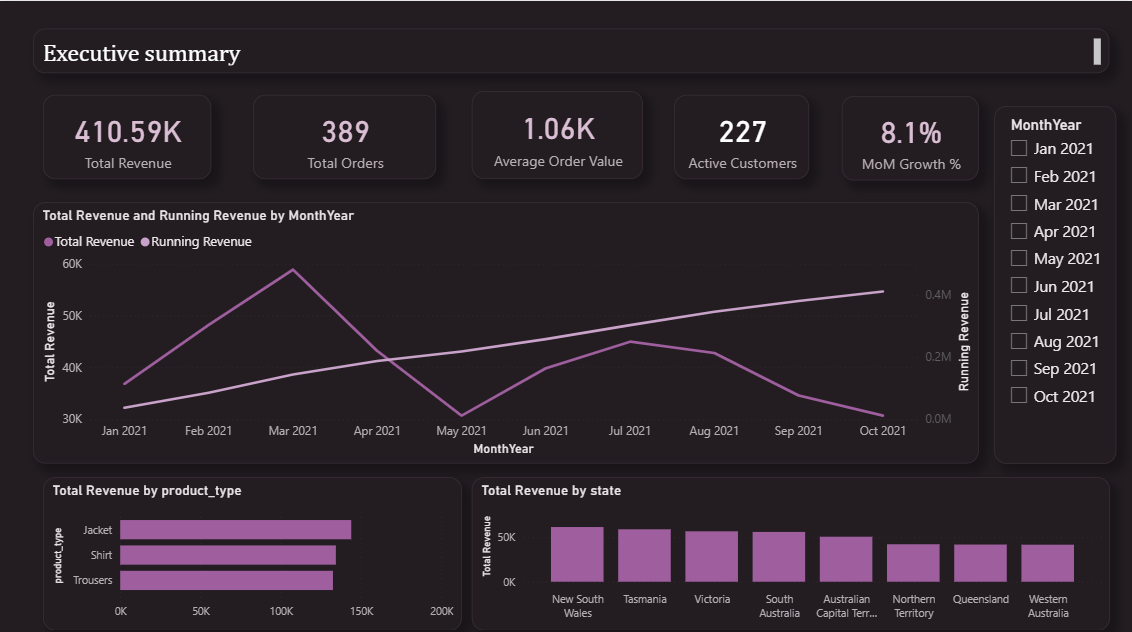

What the dashboard file says about the page in this screenshot:
{"tool":"powerbi","page":{"name":"Executive summary","canvas":[1280,720],"ordinal":0},"visuals":[{"type":"card","fields":{"Values":["Table.Total Revenue"]},"box":[50.7,106.2,189.4,95.3],"z":0},{"type":"card","fields":{"Values":["Table.Total Customers"]},"box":[762.5,106.2,152,95.3],"z":1000},{"type":"card","fields":{"Values":["_measures.Total Orders"]},"box":[287.1,106.2,206.3,95.3],"z":2000},{"type":"card","fields":{"Values":["_measures.Average Order Value"]},"box":[533.2,101.3,193,98.9],"z":3000},{"type":"slicer","fields":{"Values":["DateTable.MonthYear"]},"box":[1123.2,118.2,137.5,403],"z":4000},{"type":"lineChart","fields":{"Category":["DateTable.MonthYear"],"Y":["_measures.Total Revenue"],"Y2":["_measures.Running Revenue"]},"box":[39.8,226.8,1065.3,294.4],"z":5000},{"type":"card","fields":{"Values":["_measures.MoM Growth %"]},"box":[950.7,107.4,154.4,95.3],"z":6000},{"type":"barChart","fields":{"Y":["_measures.Total Revenue"],"Category":["products.product_type"]},"box":[50.7,536.9,471.7,172.5],"z":7000},{"type":"columnChart","fields":{"Y":["_measures.Total Revenue"],"Category":["customers.state"]},"box":[533.2,536.9,719,172.5],"z":8000},{"type":"textbox","box":[39.8,31.4,1212.5,50.7],"z":9000}]}

Visuals, with their boxes in screenshot pixels (x1, y1, x2, y2), scaled from the page's 1280x720 canvas onto the 1132x632 screenshot:
card - Table.Total Revenue: 45:93:212:177
card - Table.Total Customers: 674:93:809:177
card - _measures.Total Orders: 254:93:436:177
card - _measures.Average Order Value: 472:89:642:176
slicer - DateTable.MonthYear: 993:104:1115:457
lineChart - DateTable.MonthYear x _measures.Total Revenue: 35:199:977:457
card - _measures.MoM Growth %: 841:94:977:178
barChart - _measures.Total Revenue x products.product_type: 45:471:462:623
columnChart - _measures.Total Revenue x customers.state: 472:471:1107:623
textbox: 35:28:1108:72
